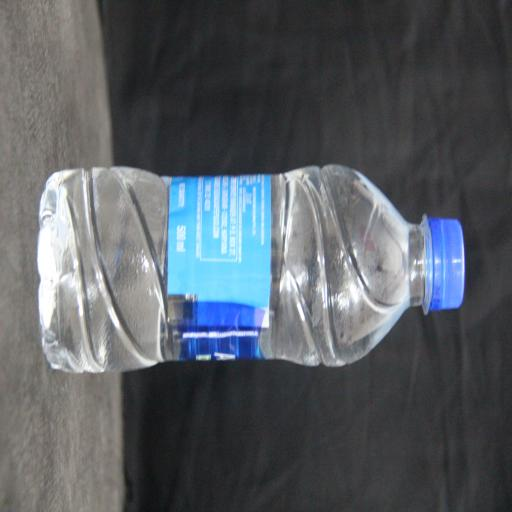Aquafina: (110, 71, 244, 512)
